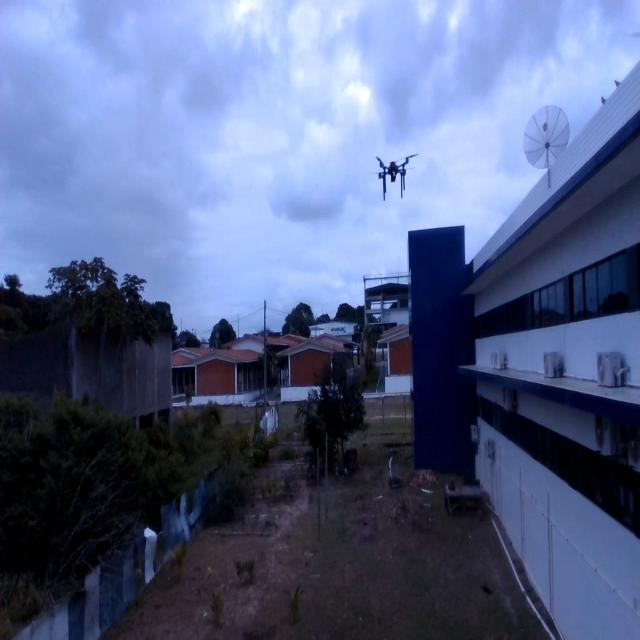-uav-: (367, 146, 426, 210)
